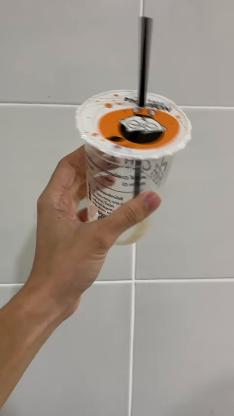Plastic Cup: (76, 88, 190, 244)
